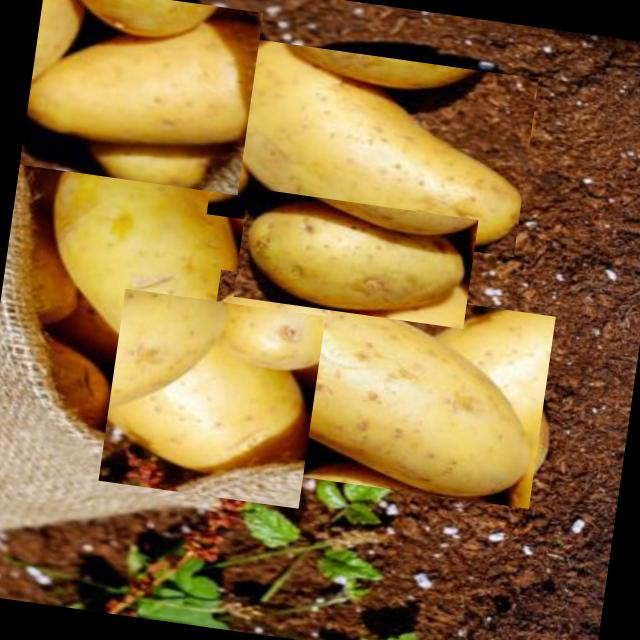Potato: (193, 270, 555, 508), (205, 36, 538, 257), (98, 288, 324, 508), (19, 0, 262, 195), (44, 136, 250, 362), (232, 188, 478, 329)
